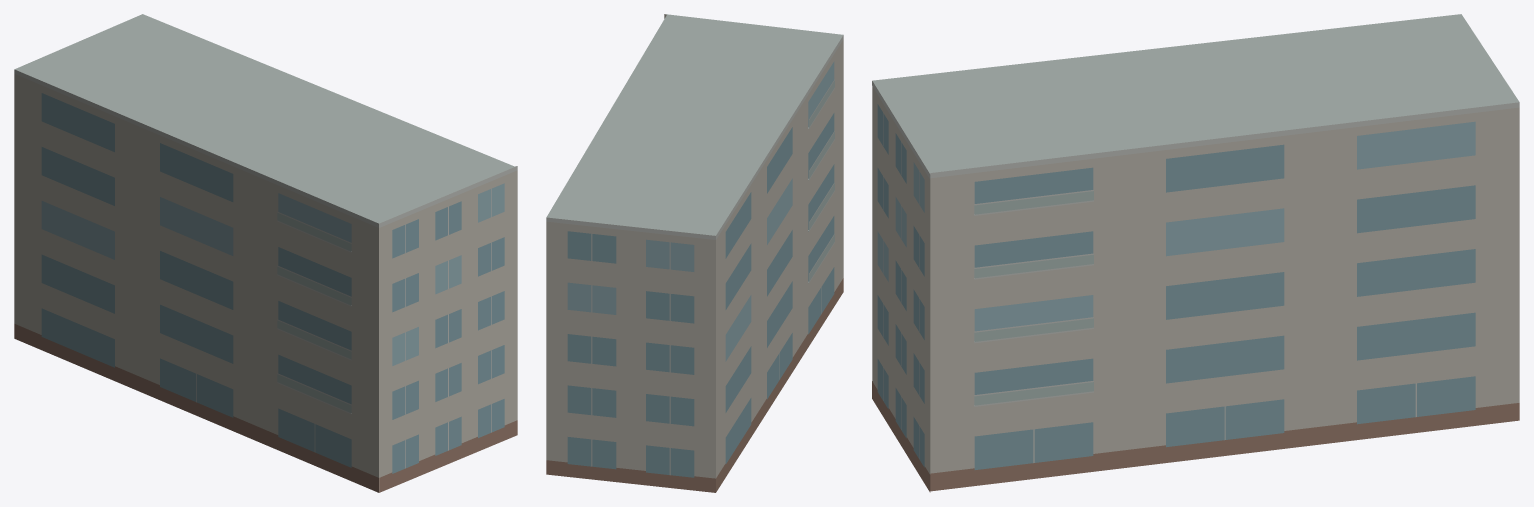
The model's file is survey-upis-33044656.glb.
3 renders of one model, left to right at view 1: azimuth 30°, elevation 25°; view 2: azimuth 150°, elevation 25°; view 3: azimuth 270°, elevation 25°, orthographic. The views are drawn at different scales.
Parts seen in each view (by area): view 1: survey-upis-33044656.tmp; view 2: survey-upis-33044656.tmp; view 3: survey-upis-33044656.tmp.
Boxes of the visible parts, left/top/right/bottom form: survey-upis-33044656.tmp: left=14, top=14, right=517, bottom=492; survey-upis-33044656.tmp: left=546, top=14, right=843, bottom=492; survey-upis-33044656.tmp: left=872, top=14, right=1519, bottom=492.
Size of the model in its own units: 16.14 by 14.9 by 27.48.
